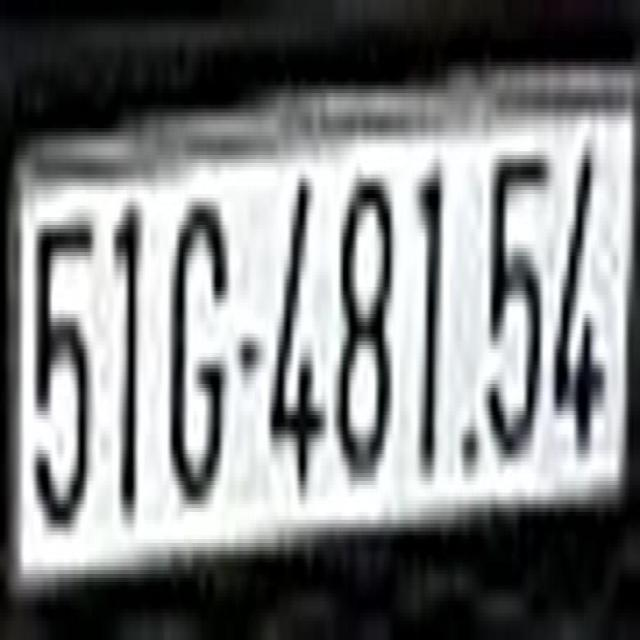1: (406, 159, 446, 500), (112, 190, 140, 524)
4: (267, 163, 328, 500), (552, 124, 609, 450)
5: (32, 202, 94, 539), (486, 136, 546, 462)
8: (335, 163, 391, 485)
G: (167, 182, 228, 508)
